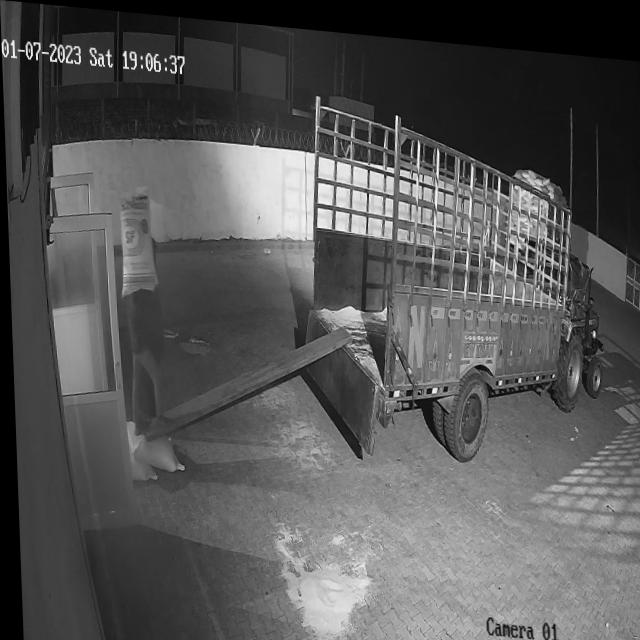sack: (116, 184, 155, 300), (124, 417, 181, 469)
